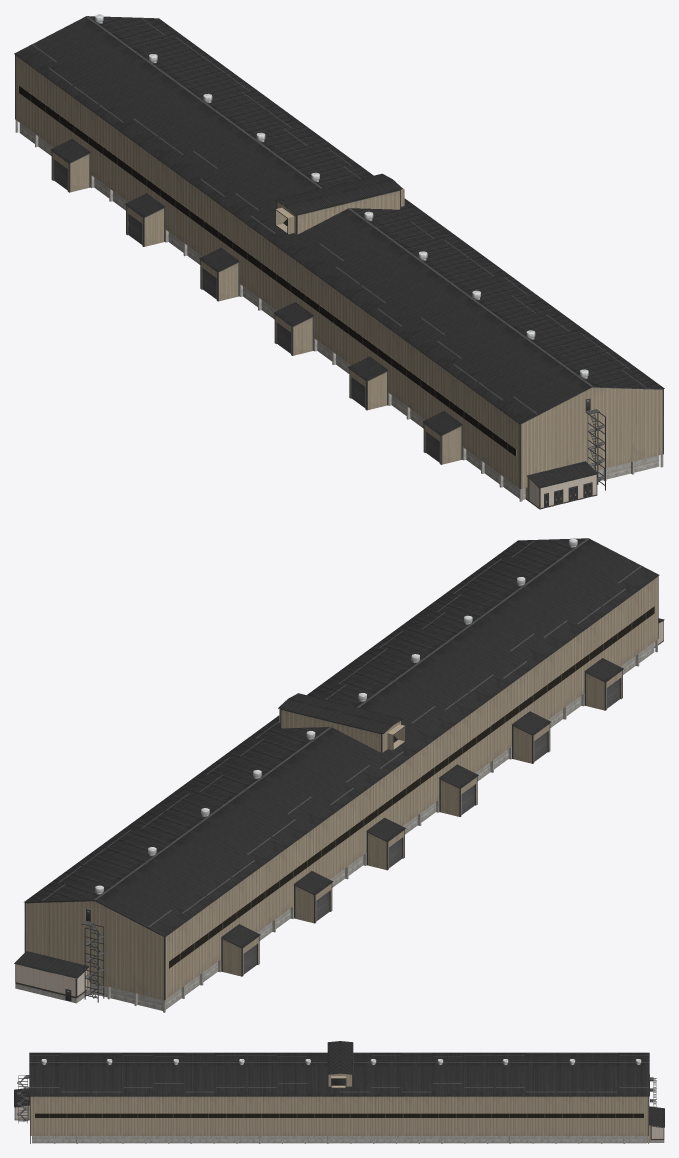
The model's file is plant-building34.glb.
3 renders of one model, top to bottom at view 1: azimuth 30°, elevation 25°; view 2: azimuth 150°, elevation 25°; view 3: azimuth 270°, elevation 25°, orthographic. The views are drawn at different scales.
Visible parts, largest first — view 1: Object8935717; view 2: Object8935717; view 3: Object8935717.
Boxes of the visible parts, left/top/right/bottom form: Object8935717: left=14, top=14, right=664, bottom=509; Object8935717: left=14, top=538, right=664, bottom=1012; Object8935717: left=14, top=1041, right=664, bottom=1143.
Bounding box in the file's own units: 30.89 × 18.92 × 171.
1 material, 1 textured.
